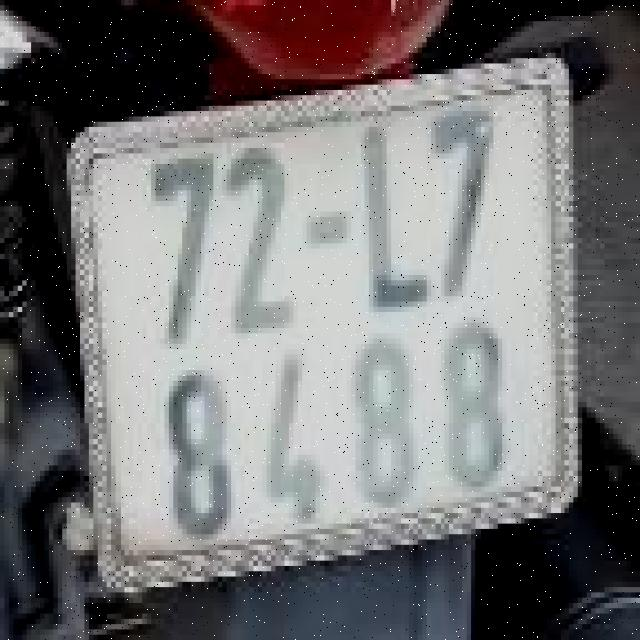2: (231, 130, 311, 330)
4: (256, 336, 340, 526)
7: (140, 145, 224, 357), (436, 103, 498, 304)
8: (149, 362, 238, 542), (431, 318, 516, 498), (356, 320, 418, 516)
L: (356, 111, 431, 307)
